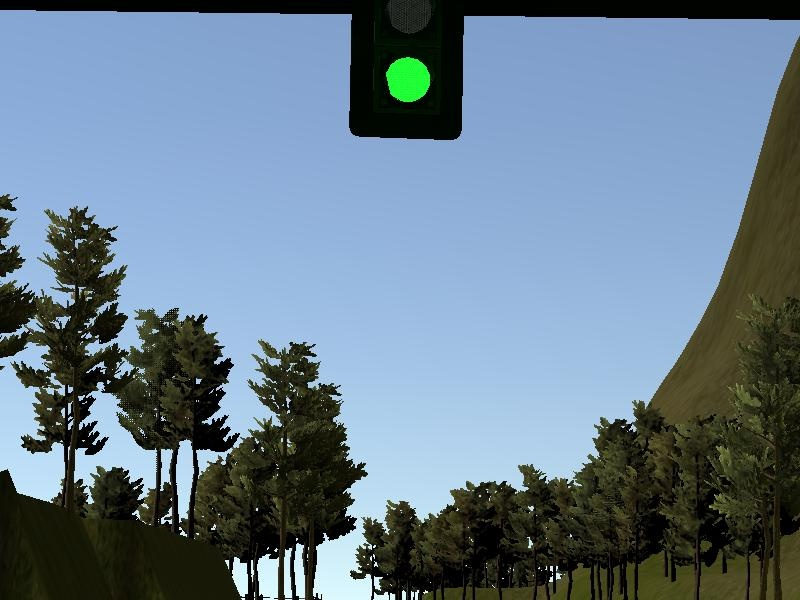traffic_light_green: (1, 1, 797, 141)
